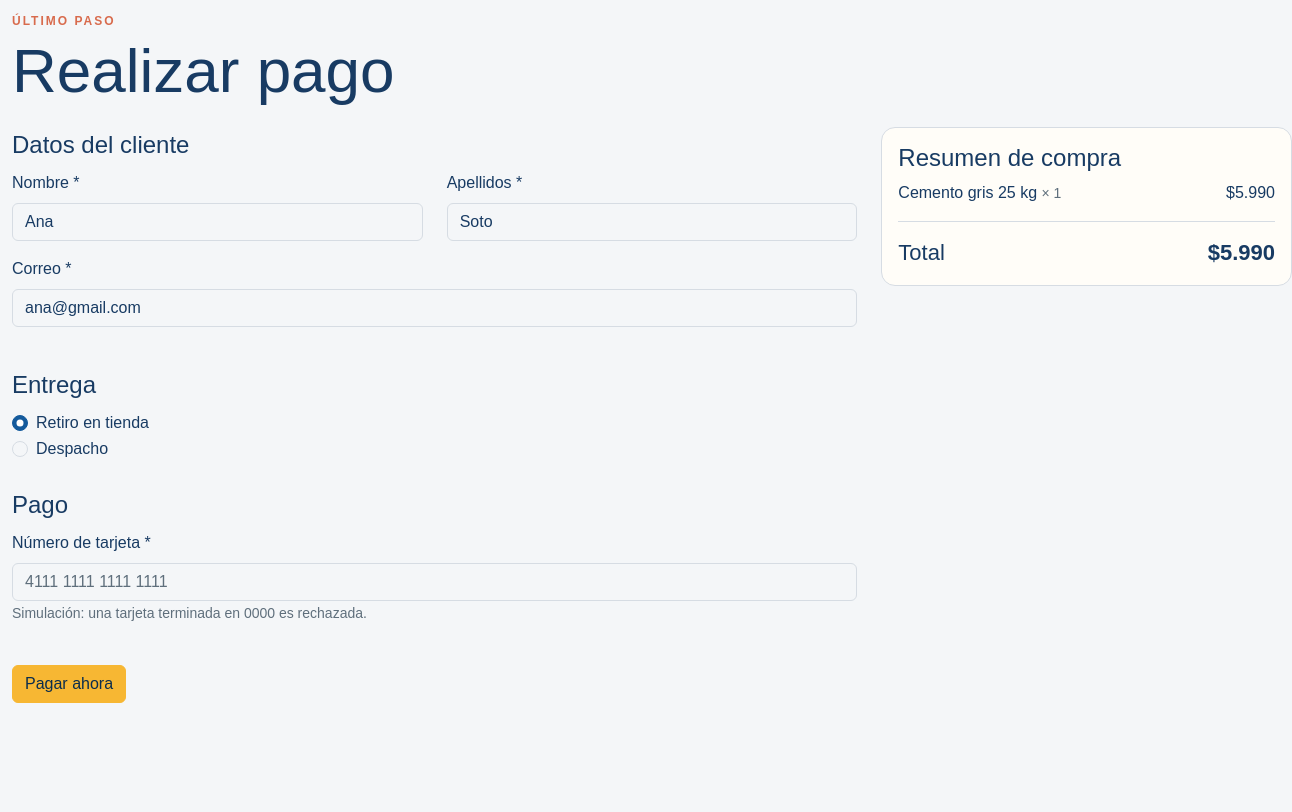
Scenario: CheckoutContainer con la pasarela simulada (mock) › muestra el motivo que entrega la pasarela cuando rechaza
Type "4111111111111111" into the field labelled "Número de tarjeta *" at (435,582), box [12, 563, 857, 601]
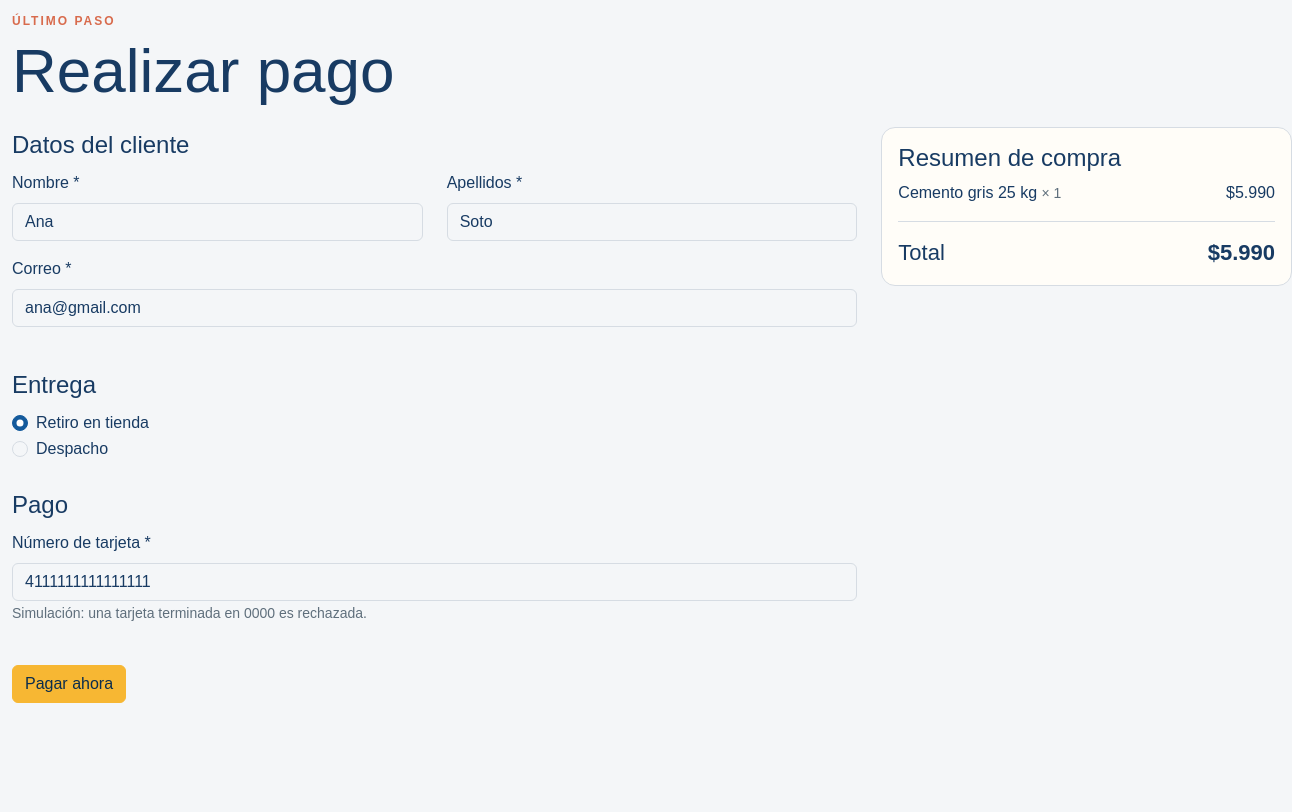
Click the button "Pagar ahora" at (69,684), box [12, 665, 126, 703]
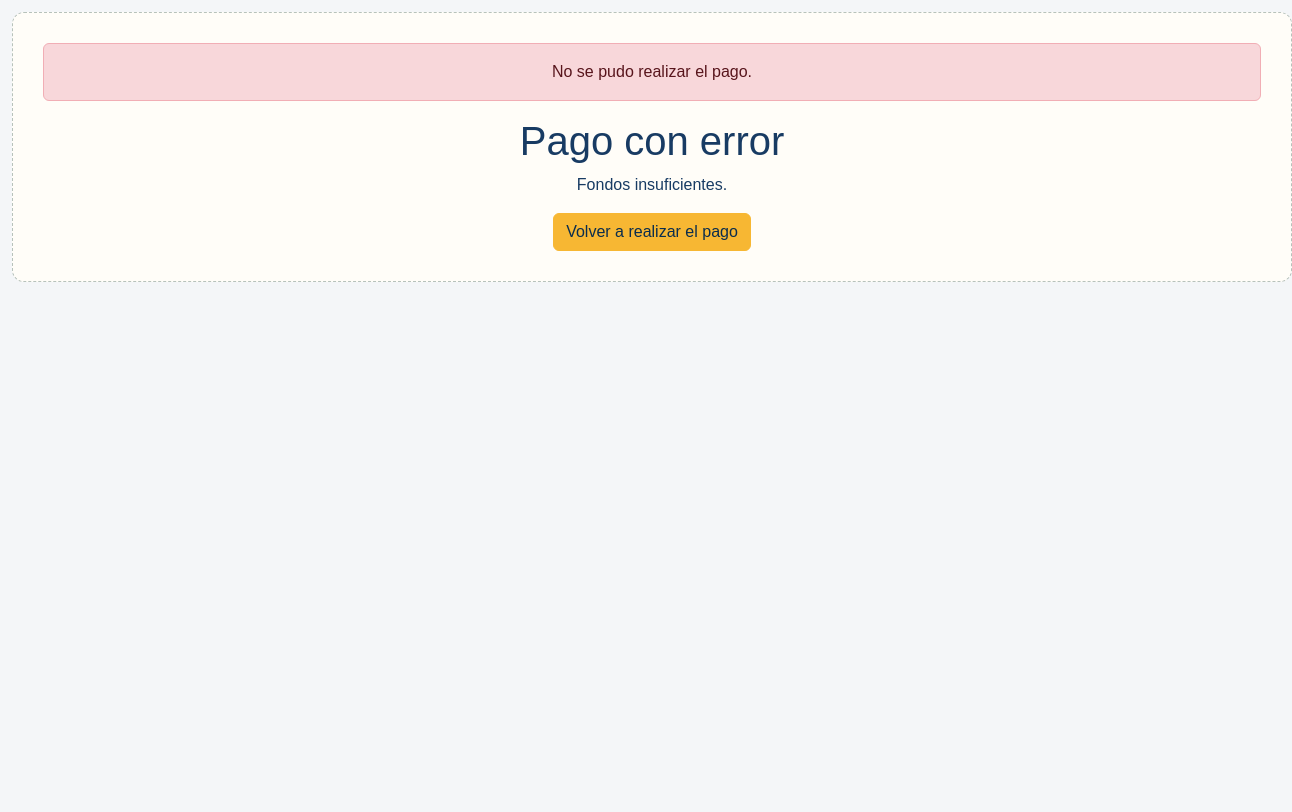
Now the text "Fondos insuficientes." is shown, box [577, 176, 727, 193]
